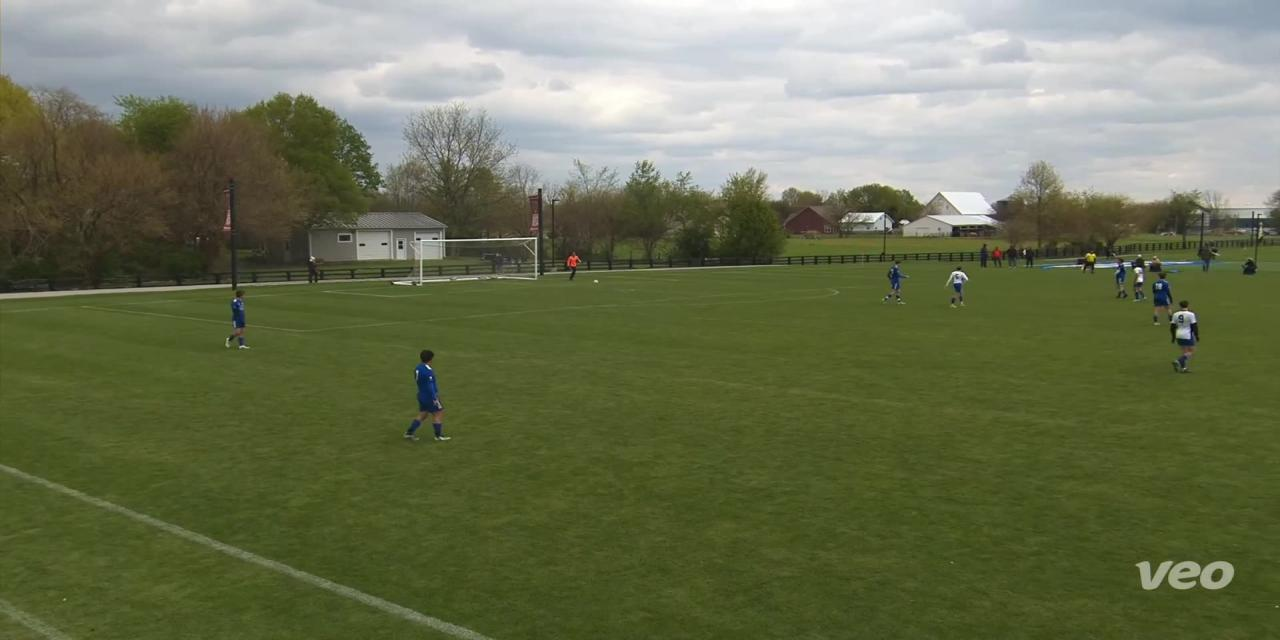goal: (387, 231, 549, 293)
sports ball: (592, 272, 606, 292)
